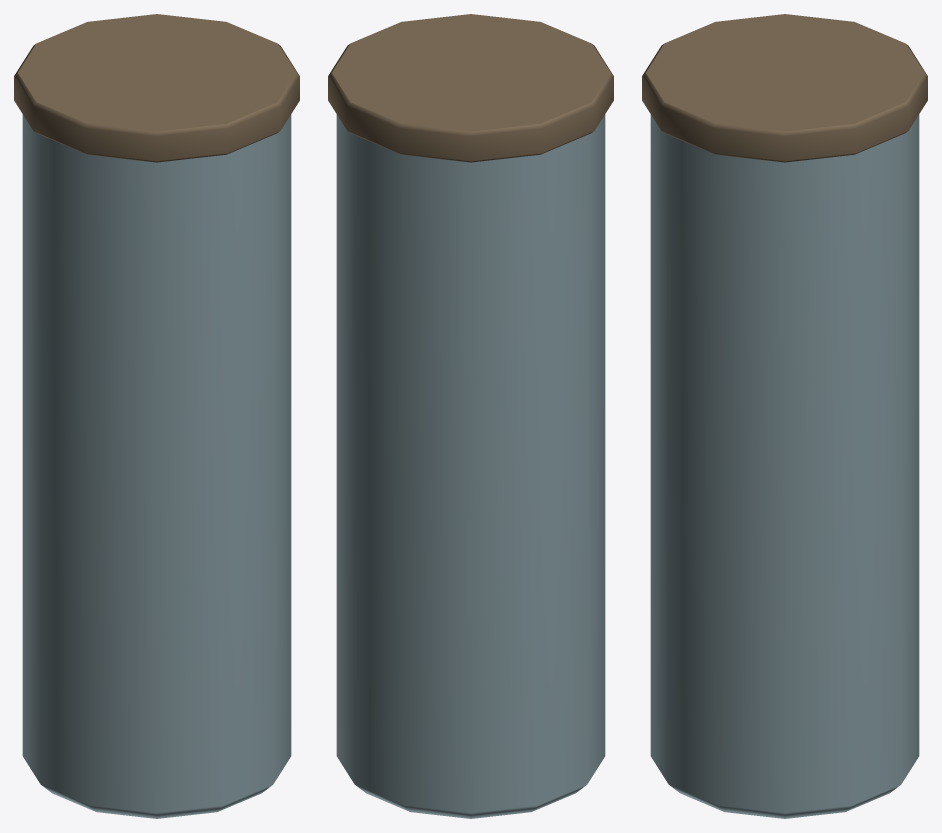
Rendered from B2-7CylinderGlass.fbx.
The picture shows the model from 3 angles, left to right: view 1: azimuth 30°, elevation 25°; view 2: azimuth 150°, elevation 25°; view 3: azimuth 270°, elevation 25°; orthographic projection.
Visible parts, largest first — view 1: CylinderGlass; view 2: CylinderGlass; view 3: CylinderGlass.
Boxes of the visible parts, box(x1,y1,x2,y2) form: CylinderGlass: box(14, 14, 299, 818); CylinderGlass: box(328, 14, 613, 818); CylinderGlass: box(642, 14, 927, 818).
Size of the model in its own units: 1.38 by 3.72 by 1.38.
